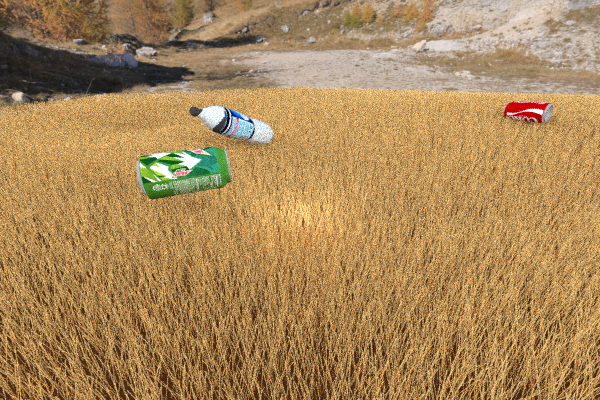bottle: (189, 105, 273, 145)
can: (136, 146, 231, 199), (502, 100, 553, 123)
